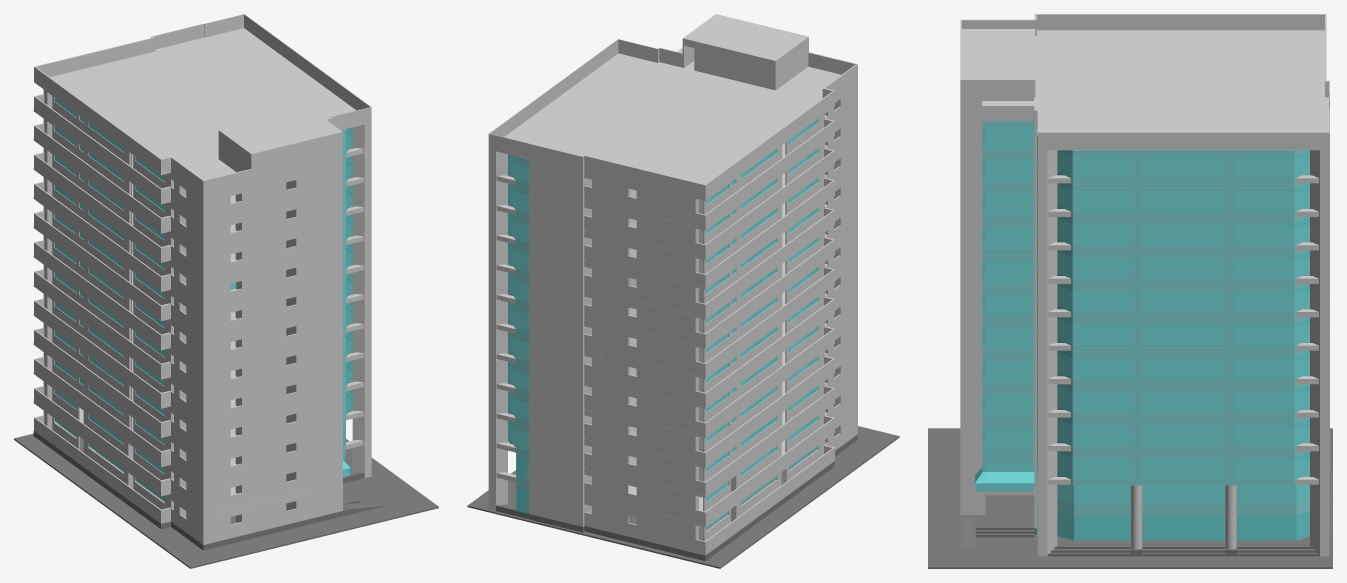
The model's file is NADI_20220523.fbx.
The picture shows the model from 3 angles, left to right: view 1: azimuth 30°, elevation 25°; view 2: azimuth 150°, elevation 25°; view 3: azimuth 270°, elevation 25°; orthographic projection. The views are drawn at different scales.
Visible parts, largest first — view 1: nadi_f13, Floor, nadi_f2, nadi_f5, nadi_f10, nadi_f6, nadi_f4, nadi_f8, nadi_f11, nadi_f7, nadi_f9, nadi_f12 (+14 smaller); view 2: nadi_f13, nadi_f9, nadi_f2, nadi_f6, nadi_f8, nadi_f5, nadi_f10, nadi_f12, nadi_f7, nadi_f4, nadi_f11, nadi_f3 (+15 smaller); view 3: nadi_f13, Floor, nadi_f12_glass, nadi_f10_glass, nadi_f6_glass, nadi_f4_glass, nadi_f3_glass, nadi_f11_glass, nadi_f9_glass5, nadi_f7_glass, nadi_f5_glass, nadi_f8_glass (+15 smaller).
Part boxes in pixels (x1,y1,x2,y2): nadi_f13: (34, 14, 371, 196); Floor: (14, 425, 438, 568); nadi_f2: (33, 381, 371, 517); nadi_f5: (33, 294, 371, 429); nadi_f10: (33, 148, 371, 283); nadi_f6: (33, 265, 371, 400); nadi_f4: (33, 323, 371, 459); nadi_f8: (33, 206, 371, 342); nadi_f11: (33, 119, 371, 254); nadi_f7: (33, 235, 371, 371); nadi_f9: (33, 177, 371, 313); nadi_f12: (33, 89, 371, 225); nadi_f13: (488, 38, 857, 200); nadi_f9: (488, 169, 857, 319); nadi_f2: (488, 377, 857, 527); nadi_f6: (488, 258, 857, 408); nadi_f8: (488, 199, 857, 349); nadi_f5: (488, 288, 857, 438); nadi_f10: (488, 139, 857, 290); nadi_f12: (488, 80, 857, 230); nadi_f7: (488, 228, 857, 379); nadi_f4: (488, 317, 857, 468); nadi_f11: (488, 110, 857, 260); nadi_f3: (488, 347, 857, 497); nadi_f13: (960, 14, 1329, 150); Floor: (928, 428, 1332, 568); nadi_f12_glass: (982, 120, 1329, 184); nadi_f10_glass: (982, 187, 1329, 251); nadi_f6_glass: (982, 321, 1329, 384); nadi_f4_glass: (982, 388, 1329, 451); nadi_f3_glass: (982, 422, 1329, 485); nadi_f11_glass: (982, 154, 1329, 217); nadi_f9_glass5: (982, 221, 1329, 284); nadi_f7_glass: (982, 288, 1329, 351); nadi_f5_glass: (982, 355, 1329, 418); nadi_f8_glass: (982, 254, 1329, 317).
Bounding box in the file's own units: 2468 × 3665 × 3034.
Materials: 4 (1 with a texture image).
